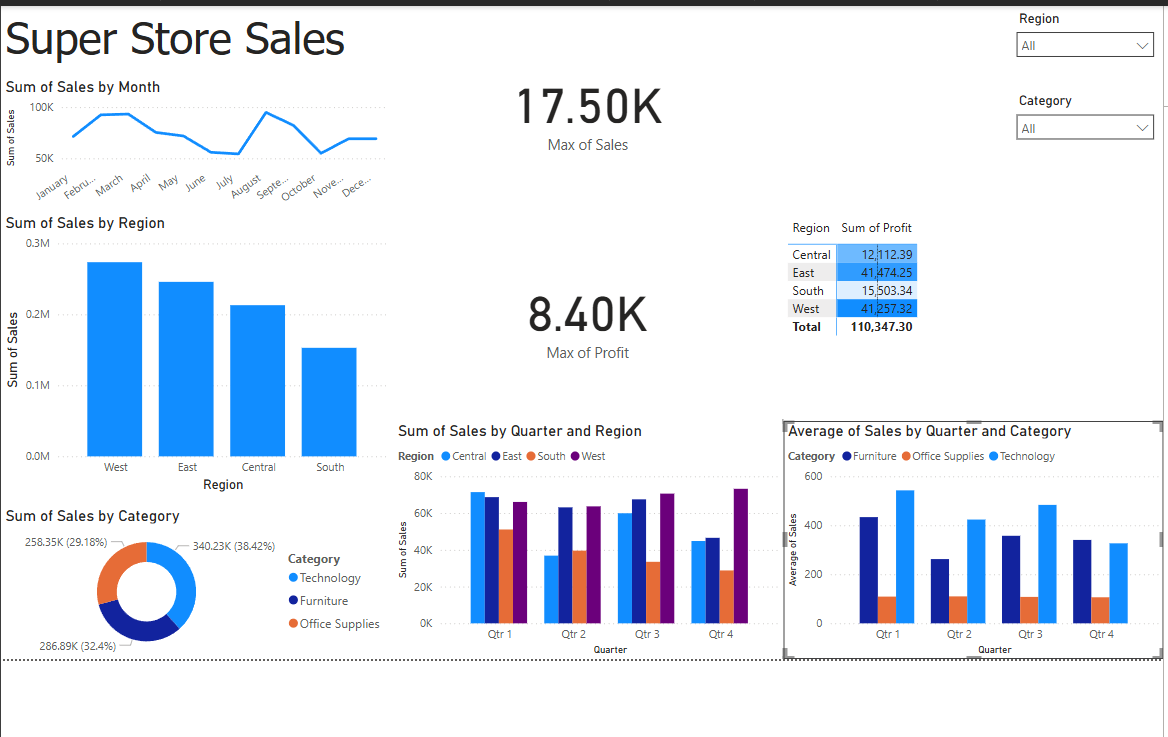

The dashboard page shown, as its layout file describes it:
{"tool":"powerbi","page":{"name":"Page 1","canvas":[1280,720],"ordinal":0},"visuals":[{"type":"textbox","box":[0,0,430.9,78.2],"z":0},{"type":"lineChart","fields":{"Y":["Sum(Superstore.Sales)"],"Category":["Superstore.Order Date.Variation.Date Hierarchy.Month"]},"box":[0,78.2,430.9,150.9],"z":1},{"type":"columnChart","fields":{"Y":["Sum(Superstore.Sales)"],"Category":["Superstore.Region"]},"box":[0,229.2,430.9,311.5],"z":2},{"type":"donutChart","fields":{"Y":["Sum(Superstore.Sales)"],"Category":["Superstore.Category"]},"box":[0,550,431,170],"z":3},{"type":"slicer","fields":{"Values":["Superstore.Region"]},"box":[1108.8,0,171.5,90.6],"z":4},{"type":"slicer","fields":{"Values":["Superstore.Category"]},"box":[1108.8,90.6,171.5,90.6],"z":5},{"type":"card","fields":{"Values":["Max(Superstore.Sales)"]},"box":[430.9,0,430.9,228.5],"z":6},{"type":"card","fields":{"Values":["Max(Superstore.Profit)"]},"box":[430.9,228.5,430.9,228.5],"z":7},{"type":"clusteredColumnChart","fields":{"Category":["Superstore.Order Date.Variation.Date Hierarchy.Quarter"],"Y":["Sum(Superstore.Sales)"],"Series":["Superstore.Region"]},"box":[432.3,457,430.9,262.9],"z":8},{"type":"clusteredColumnChart","fields":{"Y":["Avg(Superstore.Sales)"],"Series":["Superstore.Category"],"Category":["Superstore.Order Date.Variation.Date Hierarchy.Quarter"]},"box":[861.8,457,418.5,262.9],"z":9},{"type":"pivotTable","fields":{"Values":["Sum(Superstore.Profit)"],"Rows":["Superstore.Region"]},"box":[862,229,418,228],"z":10}]}

Visuals, with their boxes on the page's 1280x720 design canvas (x1, y1, x2, y2). These are canvas units, not pixel positions in the 1168x737 screenshot, which may show the page scaled, cropped or inside an application window:
textbox: 0:0:431:78
lineChart - Sum(Superstore.Sales) x Superstore.Order Date.Variation.Date Hierarchy.Month: 0:78:431:229
columnChart - Sum(Superstore.Sales) x Superstore.Region: 0:229:431:541
donutChart - Sum(Superstore.Sales) x Superstore.Category: 0:550:431:720
slicer - Superstore.Region: 1109:0:1280:91
slicer - Superstore.Category: 1109:91:1280:181
card - Max(Superstore.Sales): 431:0:862:228
card - Max(Superstore.Profit): 431:228:862:457
clusteredColumnChart - Superstore.Order Date.Variation.Date Hierarchy.Quarter x Sum(Superstore.Sales): 432:457:863:720
clusteredColumnChart - Avg(Superstore.Sales) x Superstore.Category: 862:457:1280:720
pivotTable - Sum(Superstore.Profit) x Superstore.Region: 862:229:1280:457
